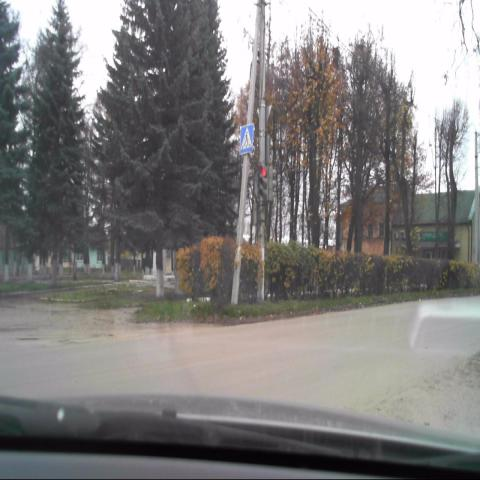5_19_1: (239, 125, 254, 154)
